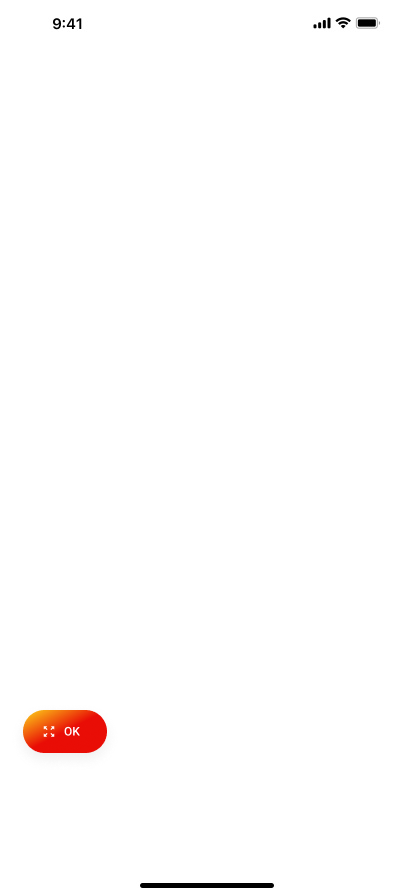Buttons: (8, 701, 122, 774)
Home Indicator: (0, 862, 414, 896)
Status Bar: (0, 0, 414, 44)
